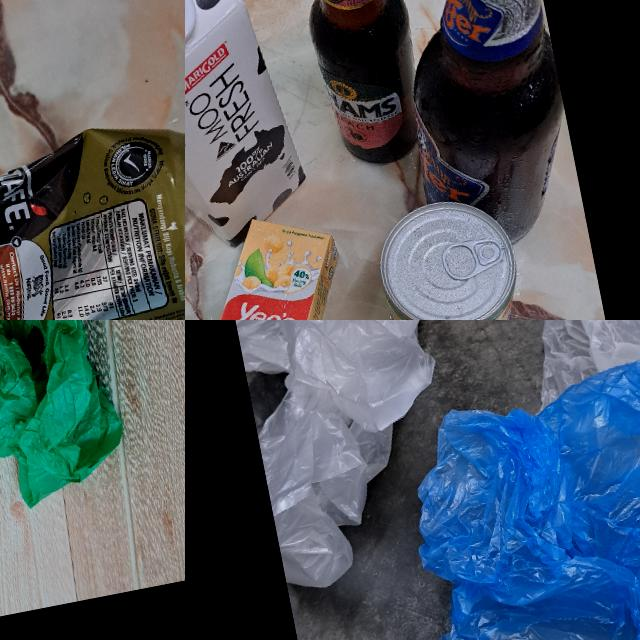aba de lata: (439, 234, 508, 284)
caixinha: (185, 0, 317, 273), (185, 204, 372, 320)
garrafa de vidro: (370, 0, 588, 260), (289, 0, 434, 174)
lata: (0, 105, 185, 320), (368, 191, 533, 320)
sacola plástica: (342, 340, 640, 640), (229, 320, 476, 594), (0, 320, 138, 518), (479, 320, 640, 471)
